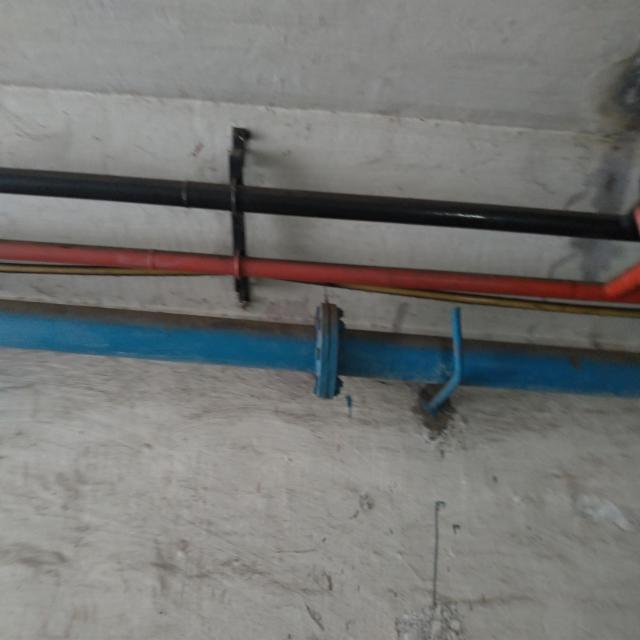gas: (1, 301, 637, 395), (2, 167, 636, 239), (3, 237, 636, 303)
